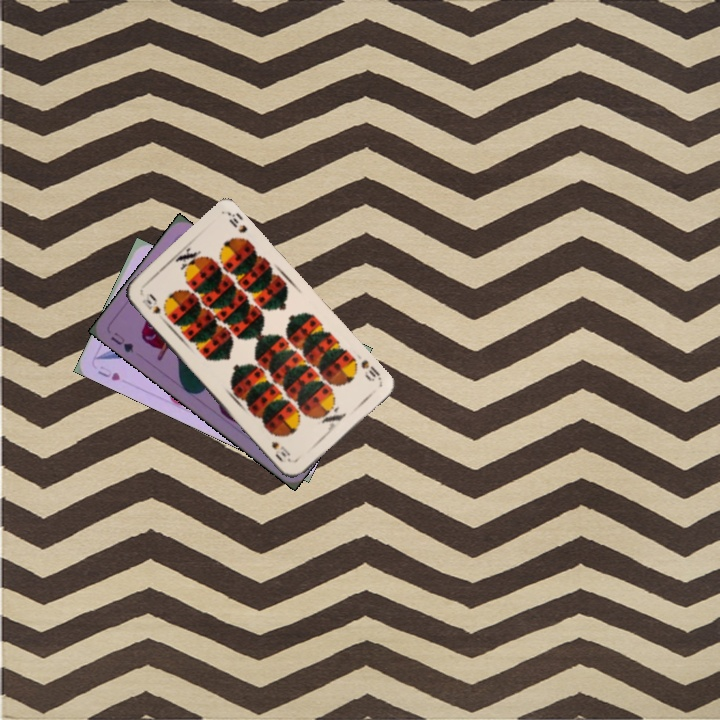GU: (106, 328, 136, 355)
HU: (94, 362, 123, 384)
S10: (357, 356, 384, 384), (138, 295, 163, 317)
